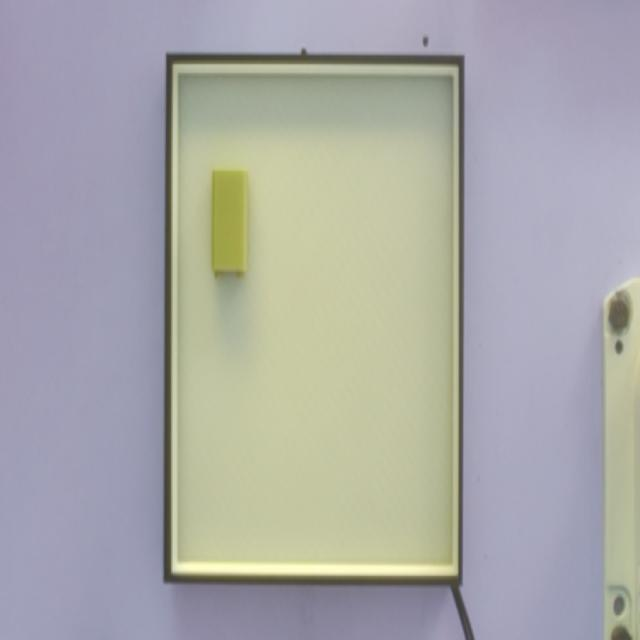bateria: (209, 173, 247, 282)
mesa: (163, 54, 464, 585)
